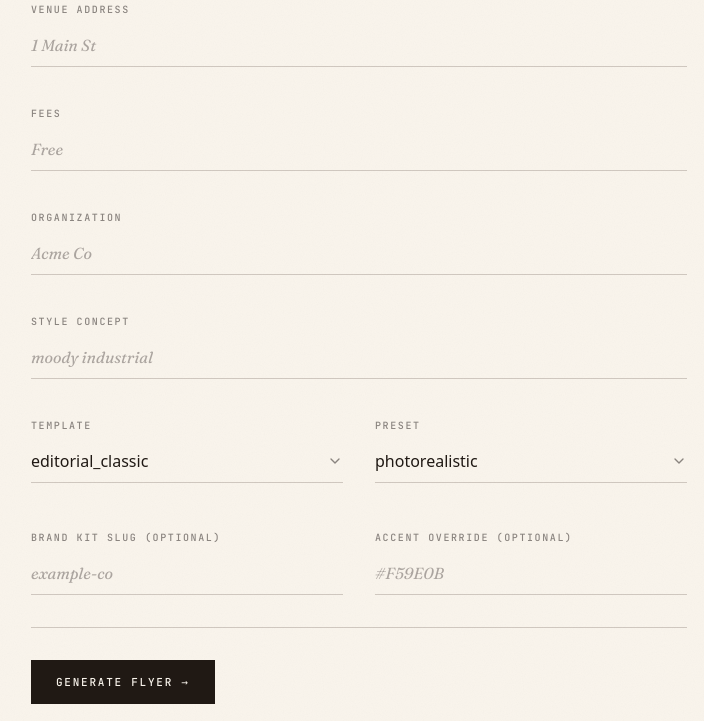
Test: NewFlyerPage — Phase 22 template + subtype › renders template Select with 6 options
(page scrolled)
Click the dropdown with test id "template-select": {"x": 90, "y": 460} [31,439,343,483]
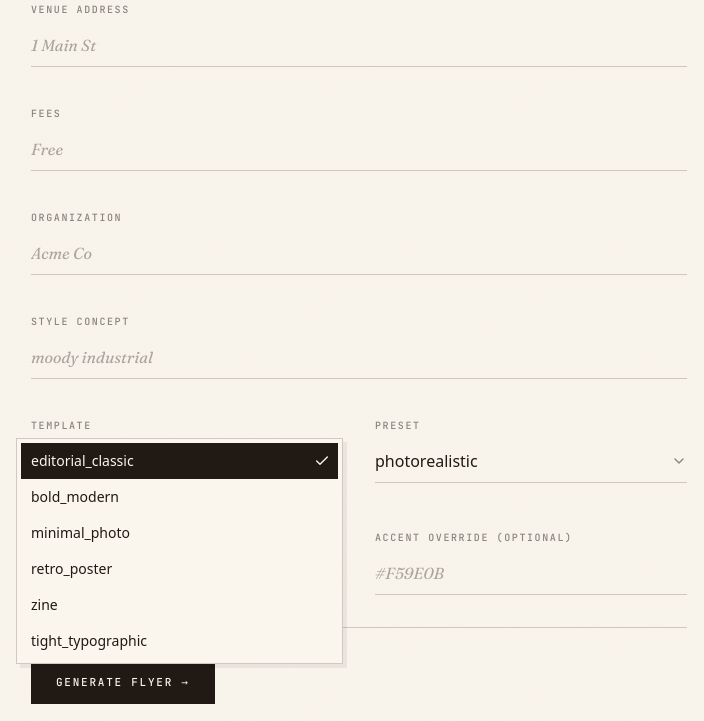
Expected: the text "editorial_classic" is shown, [31,451,134,471]
Expected: the text "bold_modern" is shown, [31,487,119,507]
Expected: the text "minimal_photo" is shown, [31,523,130,543]
